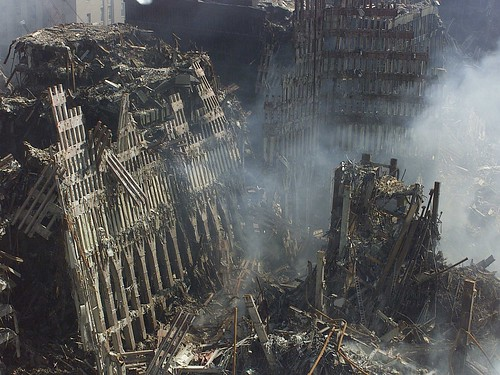building: (1, 25, 256, 337), (268, 1, 492, 316)
